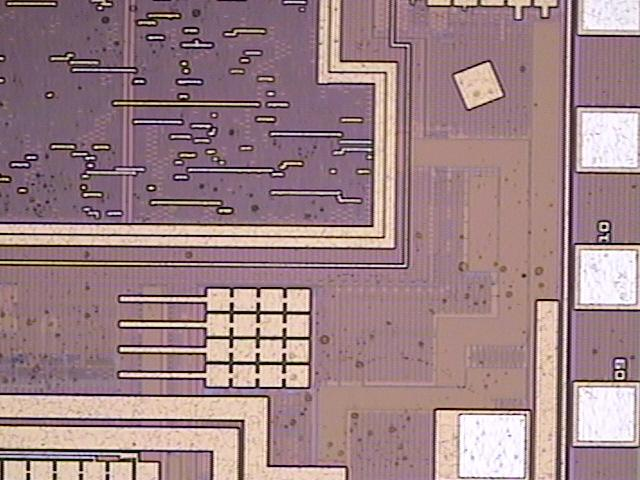PO CONTAMINATION: (1, 1, 640, 473)
